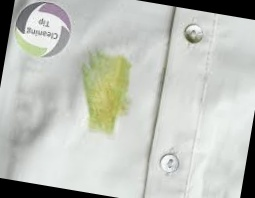earth: (75, 48, 133, 134)
